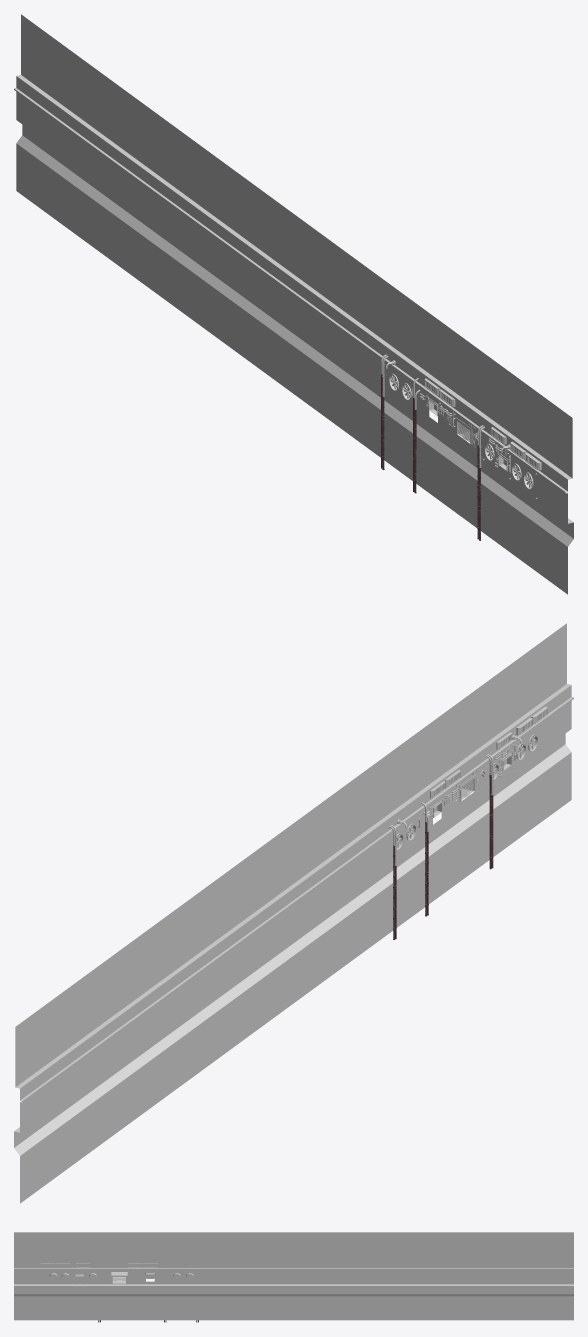
File: Wall_Prova1.fbx
3 renders of one model, top to bottom at view 1: azimuth 30°, elevation 25°; view 2: azimuth 150°, elevation 25°; view 3: azimuth 270°, elevation 25°, orthographic. The views are drawn at different scales.
Visible parts, largest first — view 1: Wall_Base; view 2: Wall_Base; view 3: Wall_Base.
Boxes of the visible parts, bbox=[...] form: Wall_Base: bbox=[14, 14, 573, 594]; Wall_Base: bbox=[14, 623, 573, 1203]; Wall_Base: bbox=[14, 1232, 573, 1320].
Size of the model in its own units: 18.87 by 759 by 138.
